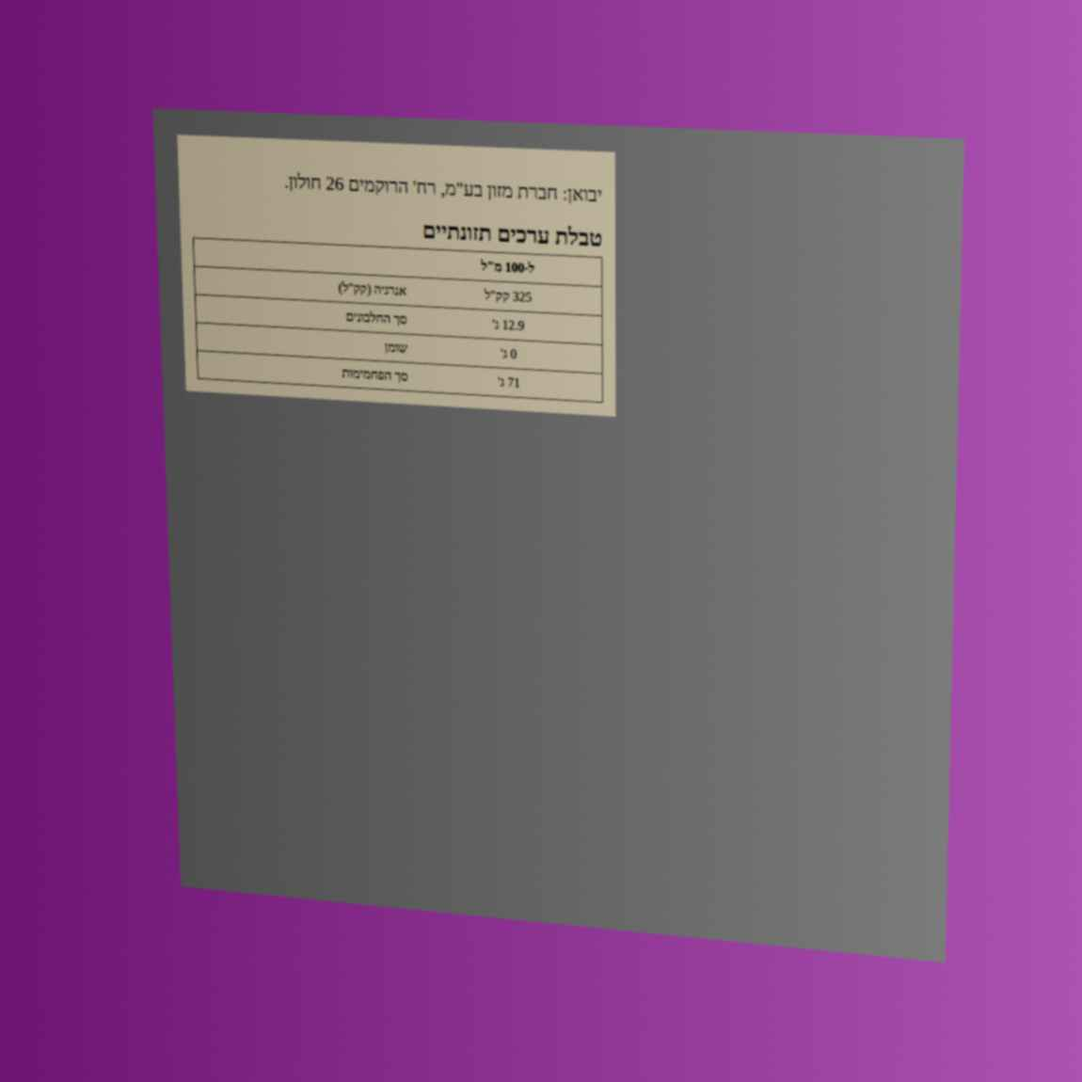carbs: (496, 373, 522, 392)
energy: (482, 286, 534, 306)
fat: (499, 344, 518, 363)
protein: (490, 315, 526, 335)
